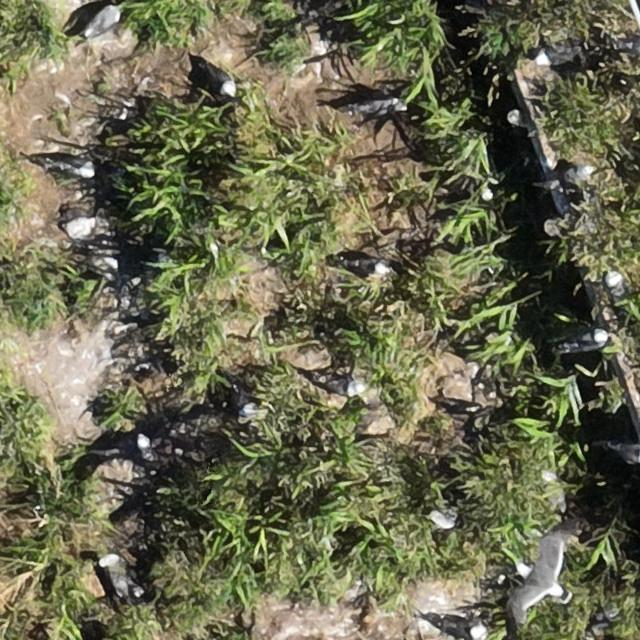F: (508, 542, 577, 623)
umineko: (80, 5, 120, 40), (99, 556, 129, 598), (319, 371, 363, 399), (136, 435, 164, 472), (606, 270, 630, 312), (362, 96, 411, 116), (342, 256, 388, 277), (536, 44, 584, 64), (439, 619, 486, 638), (565, 329, 605, 350), (208, 68, 236, 97), (233, 386, 260, 416), (561, 164, 596, 187), (51, 158, 94, 176), (613, 443, 639, 463)
